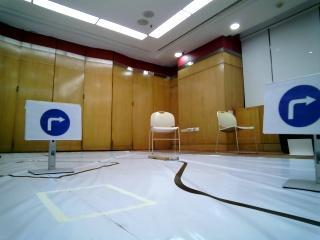right: (263, 80, 319, 133), (29, 103, 81, 140)
